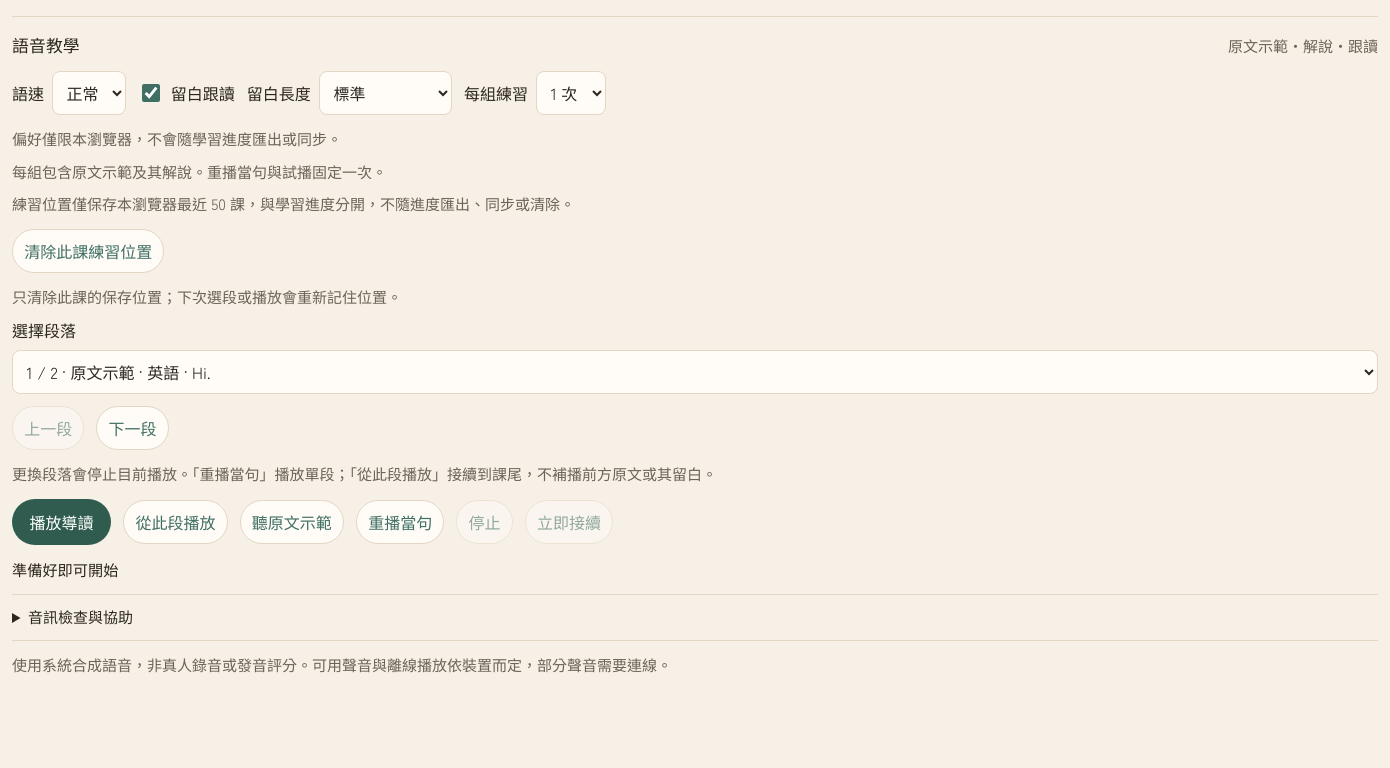
語音教學的真實元件互動 › 儲存遭拒仍套用當前設定並顯示失敗，恢復後才清除提示
This screenshot has width=1390, height=768.
Select "慢速" in the dropdown labelled "語速": (89, 93) [52,71,126,115]
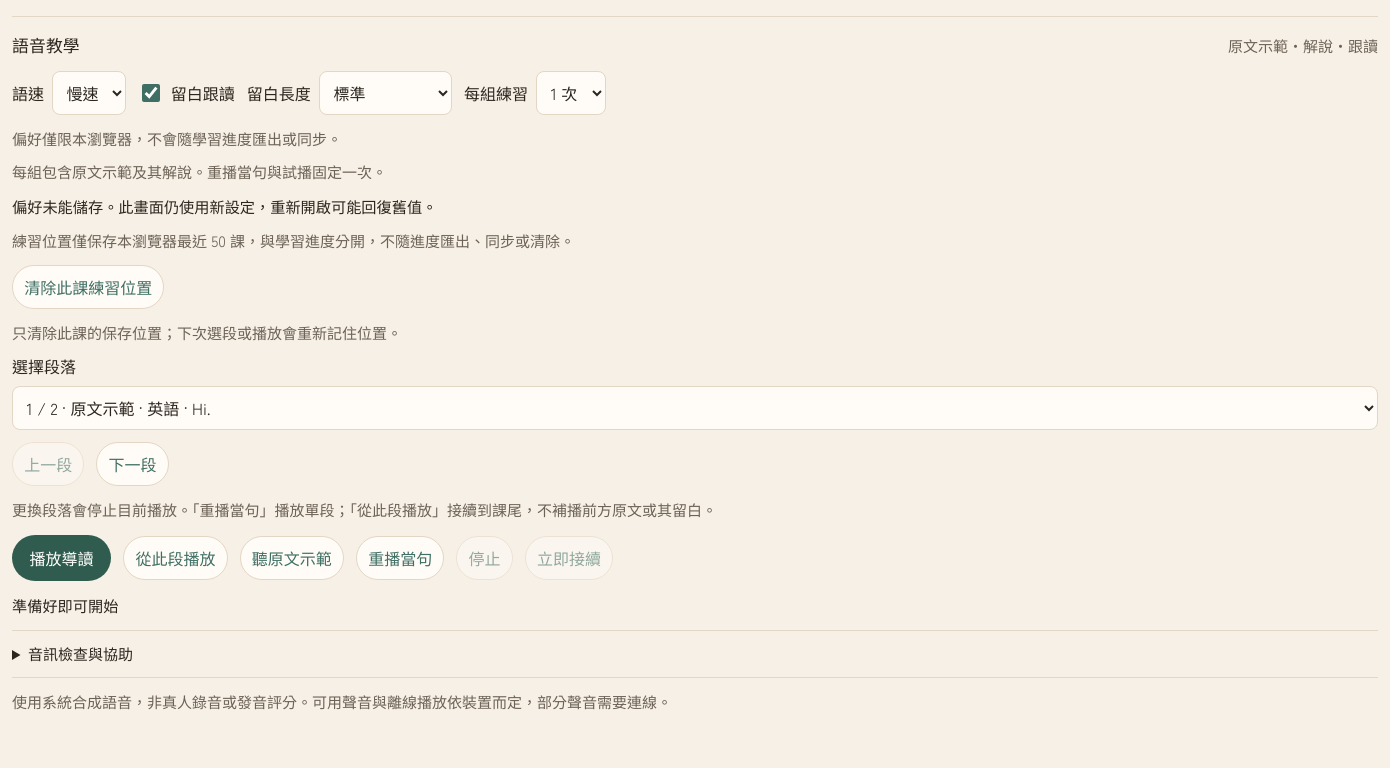
Result: the message "偏好未能儲存。此畫面仍使用新設定，重新開啟可能回復舊值。" is shown at [12,195,437,217]
Select "正常" in the dropdown labelled "語速": (89, 93) [52,71,126,115]
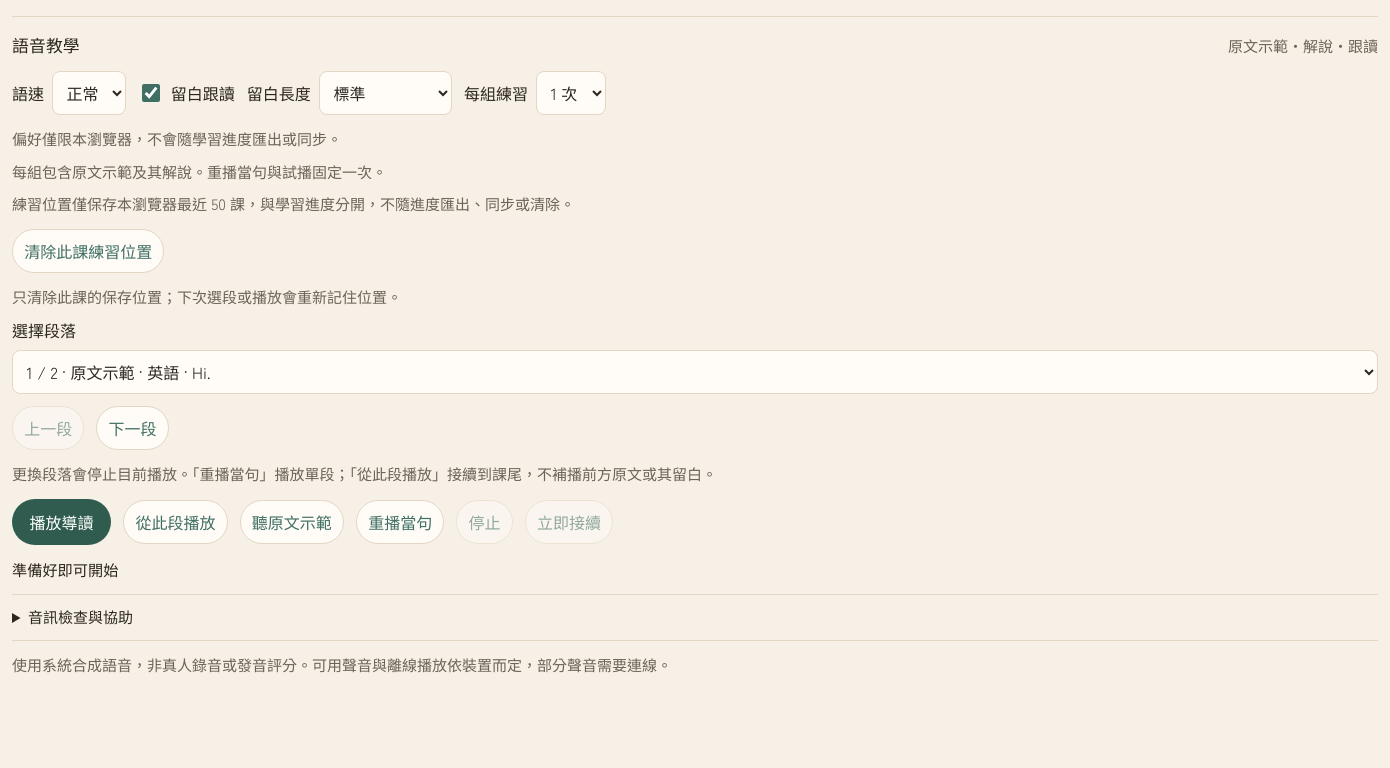
Result: the message "偏好未能儲存。此畫面仍使用新設定，重新開啟可能回復舊值。" is gone
